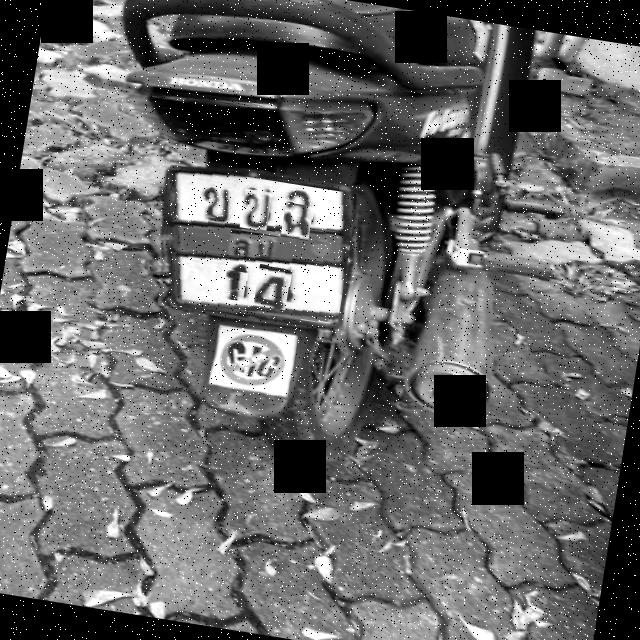letters: (191, 178, 236, 225), (254, 264, 292, 311), (240, 188, 272, 232), (280, 202, 314, 242), (222, 270, 249, 302)
license-plate: (170, 169, 350, 322)
province: (227, 230, 296, 266)
